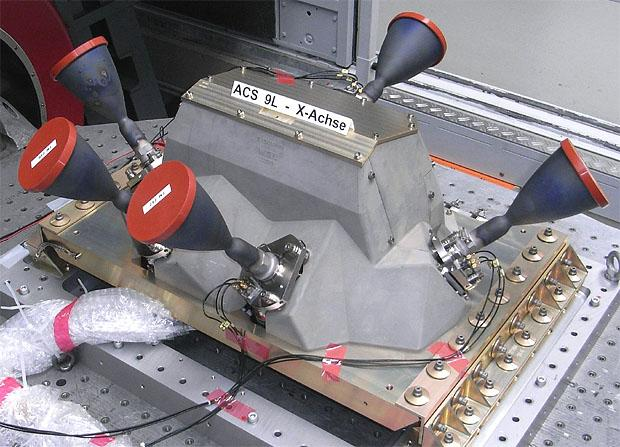thruster: (488, 139, 608, 232), (13, 116, 128, 211), (46, 34, 147, 142), (126, 160, 233, 254), (375, 10, 447, 86)
